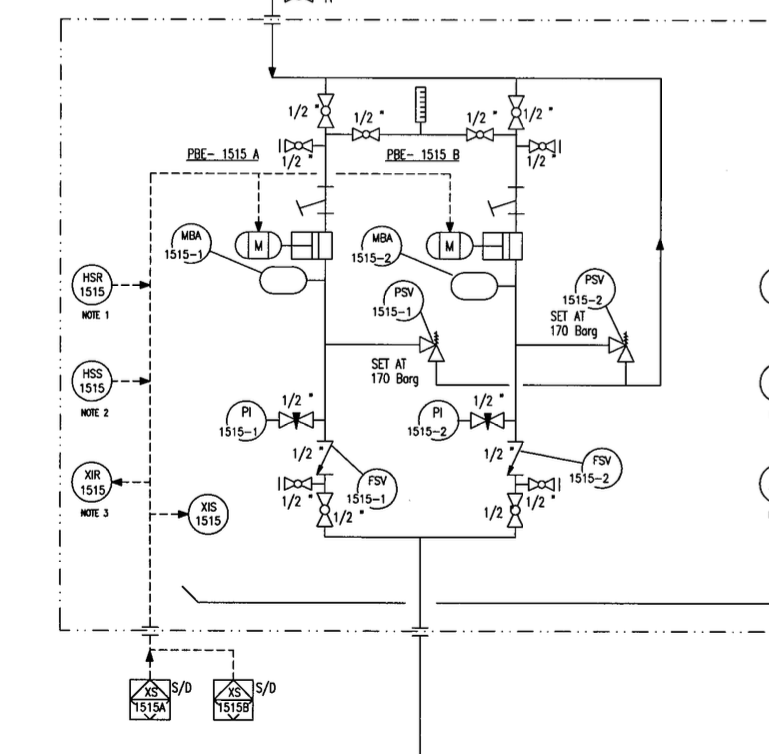Instrument: (68, 355, 121, 405), (184, 490, 235, 540), (66, 260, 116, 307), (69, 458, 113, 504)
Instrument-offset: (569, 435, 629, 494), (366, 278, 428, 323), (157, 222, 216, 269), (343, 466, 403, 511), (404, 396, 461, 443), (559, 267, 620, 310), (215, 397, 268, 446), (351, 224, 403, 270)
Instrument-square: (122, 674, 173, 722), (206, 675, 256, 723)
